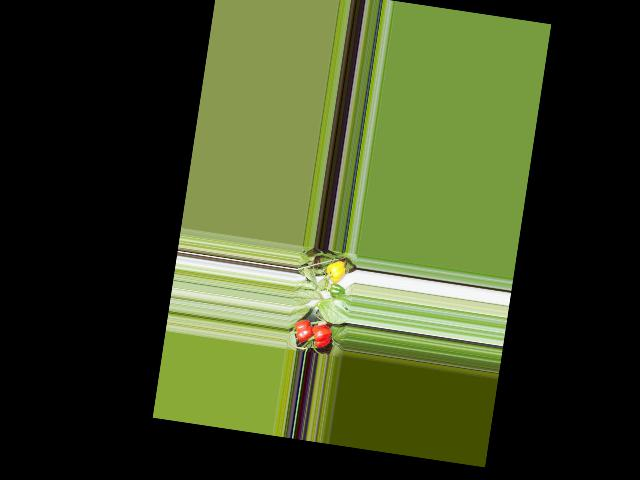bell_pepper: (324, 257, 349, 284)
